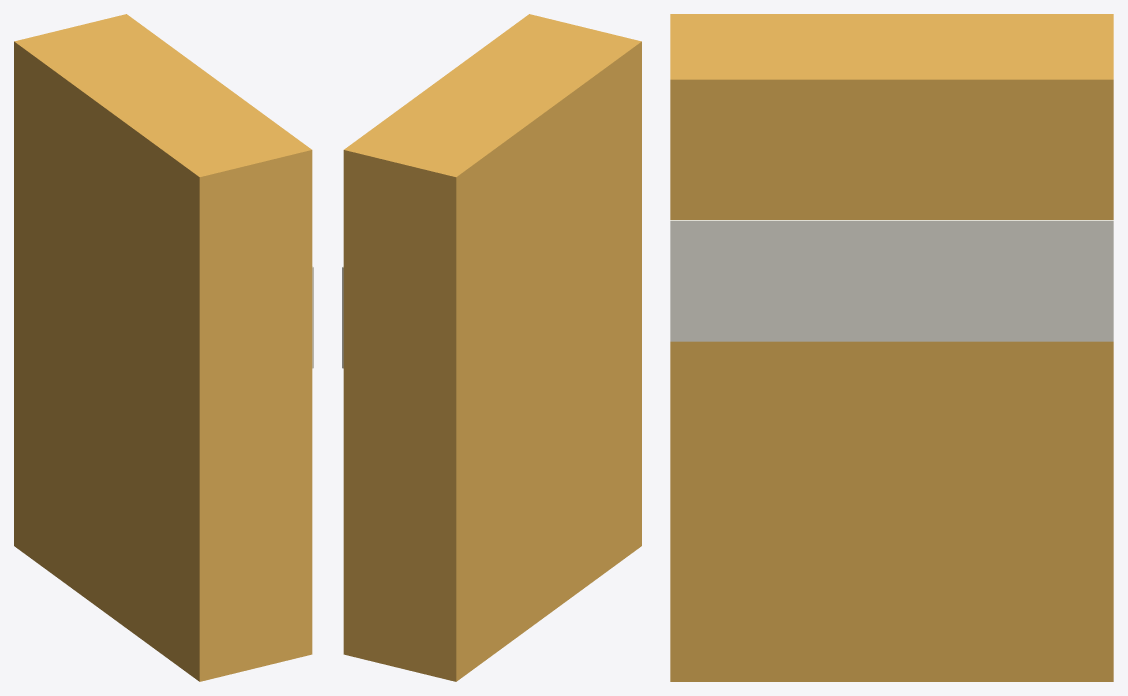
File: cereal_box.glb
The picture shows the model from 3 angles, left to right: view 1: azimuth 30°, elevation 25°; view 2: azimuth 150°, elevation 25°; view 3: azimuth 270°, elevation 25°; orthographic projection. The views are drawn at different scales.
Size of the model in its own units: 0.071 by 0.3 by 0.2.
